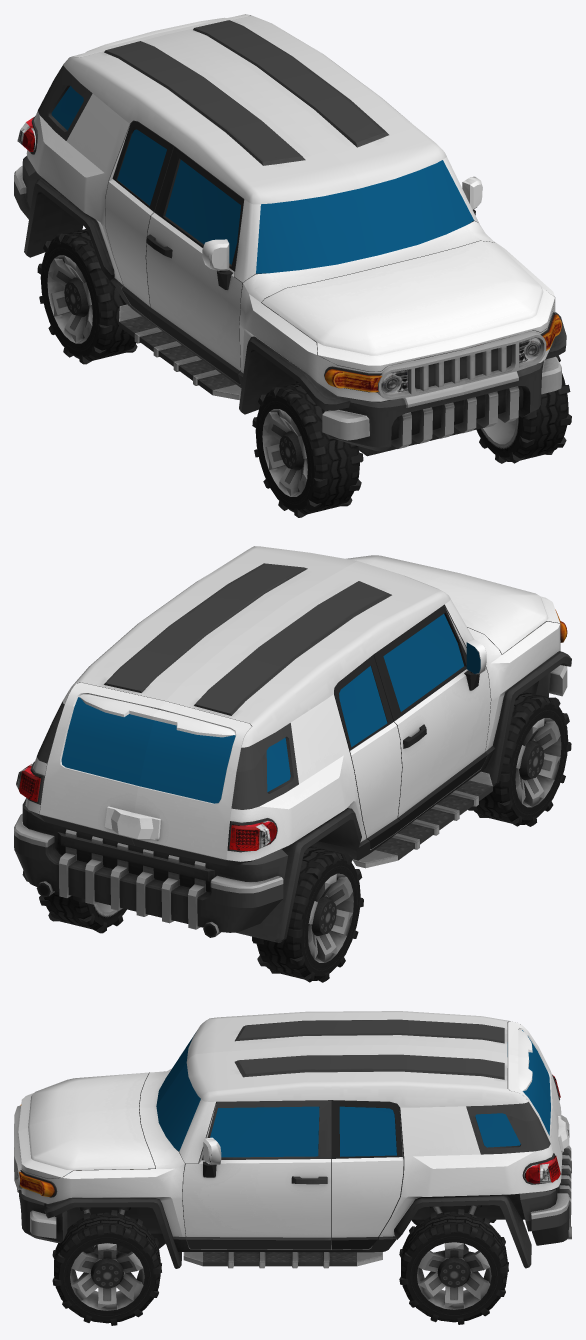
The model's file is Car16.fbx.
3 views of the same model, one above another, from view 1: azimuth 30°, elevation 25°; view 2: azimuth 150°, elevation 25°; view 3: azimuth 270°, elevation 25° (orthographic). The views are drawn at different scales.
Visible parts, largest first — view 1: Roof, Body, Hood, Front_Glass_, Offroad_2_Door_FR, FrontBumper, Tire_3, Tire_2, Offroad_2_Door_RR, Side_Glass__2, Tire_1, Offroad_2_LeftBumper_2__1_ (+8 smaller); view 2: Roof, Body, BackBumper, Trunk, Offroad_2_Door_FR, Back_Glass_, Hood, Tire_2, Offroad_2_Door_RR, Tire_3, Side_Glass__2, Offroad_2_LeftBumper_2__1_ (+8 smaller); view 3: Roof, Body, Offroad_2_Door_FR_1, Hood, Offroad_2_Door_RR_1, Tire, Tire_1, Side_Glass__4, Metal_1, Metal, BackBumper, Trunk (+9 smaller).
Boxes of the visible parts, <box> form: Roof: <box>53,15,479,282</box>; Body: <box>24,82,566,456</box>; Hood: <box>262,241,554,371</box>; Front_Glass_: <box>256,160,473,273</box>; Offroad_2_Door_FR: <box>146,146,244,384</box>; FrontBumper: <box>322,356,561,451</box>; Tire_3: <box>252,383,363,517</box>; Tire_2: <box>37,229,137,364</box>; Offroad_2_Door_RR: <box>105,121,174,321</box>; Side_Glass__2: <box>165,160,240,264</box>; Tire_1: <box>476,355,571,463</box>; Offroad_2_LeftBumper_2__1_: <box>119,304,241,400</box>; Roof: <box>52,546,473,771</box>; Body: <box>22,621,571,942</box>; BackBumper: <box>14,798,287,937</box>; Trunk: <box>39,682,251,859</box>; Offroad_2_Door_FR: <box>373,605,490,832</box>; Back_Glass_: <box>61,697,235,803</box>; Hood: <box>346,555,559,653</box>; Tire_2: <box>252,846,363,982</box>; Offroad_2_Door_RR: <box>334,655,401,848</box>; Tire_3: <box>468,691,571,826</box>; Side_Glass__2: <box>383,614,463,711</box>; Offroad_2_LeftBumper_2__1_: <box>353,771,492,868</box>; Roof: <box>179,1011,538,1163</box>; Body: <box>14,1039,561,1268</box>; Offroad_2_Door_FR_1: <box>182,1100,331,1249</box>; Hood: <box>18,1072,155,1178</box>; Offroad_2_Door_RR_1: <box>332,1100,403,1249</box>; Tire: <box>399,1209,508,1324</box>; Tire_1: <box>52,1210,161,1325</box>; Side_Glass__4: <box>210,1106,319,1157</box>; Metal_1: <box>70,1243,144,1310</box>; Metal: <box>417,1242,491,1309</box>; BackBumper: <box>519,1115,571,1245</box>; Trunk: <box>507,1021,569,1180</box>.
Size of the model in its own units: 322 by 310 by 677.
